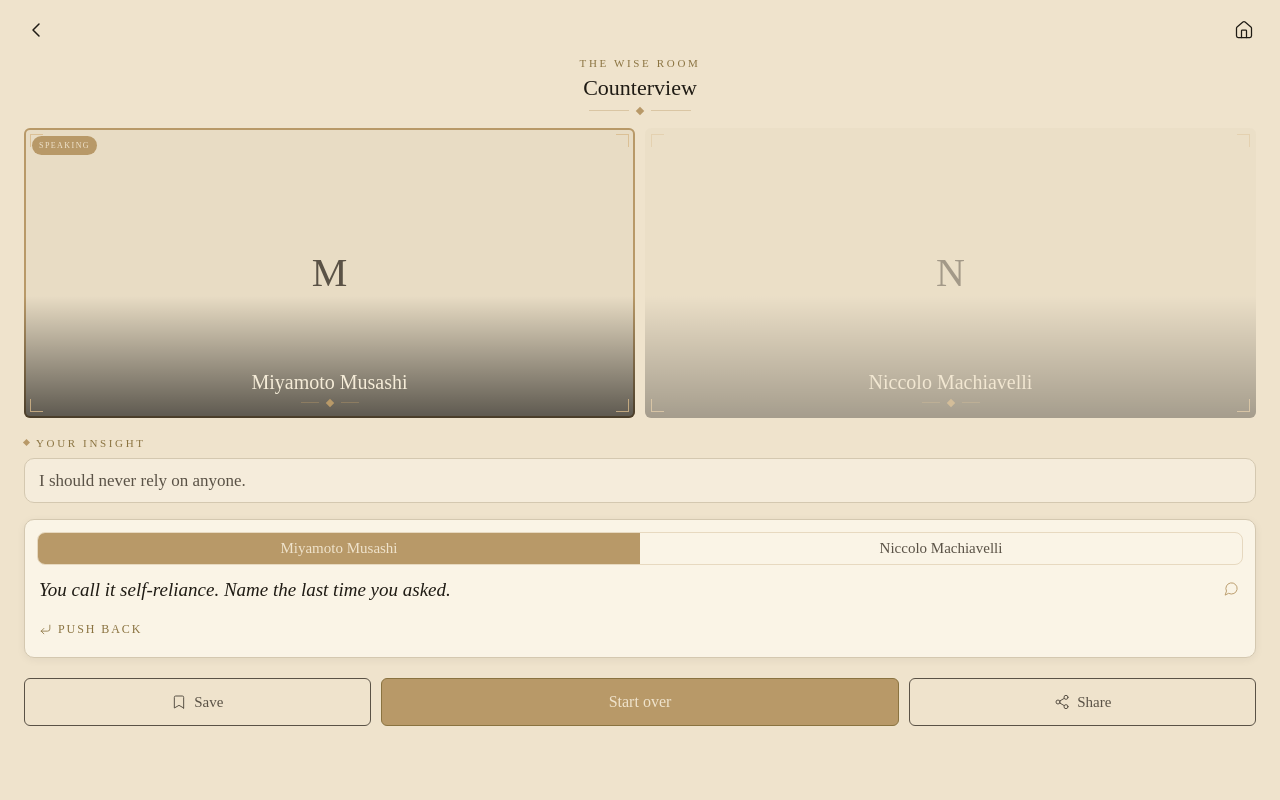
Test: go deeper — when the request FAILS › confines the failure to the persona it happened to
Expected: the text "You call it self-reliance. Name the last time you asked." is shown, [39,579,451,600]
Click the button named "go deeper".
click(1232, 589)  # box [1222,579,1241,598]
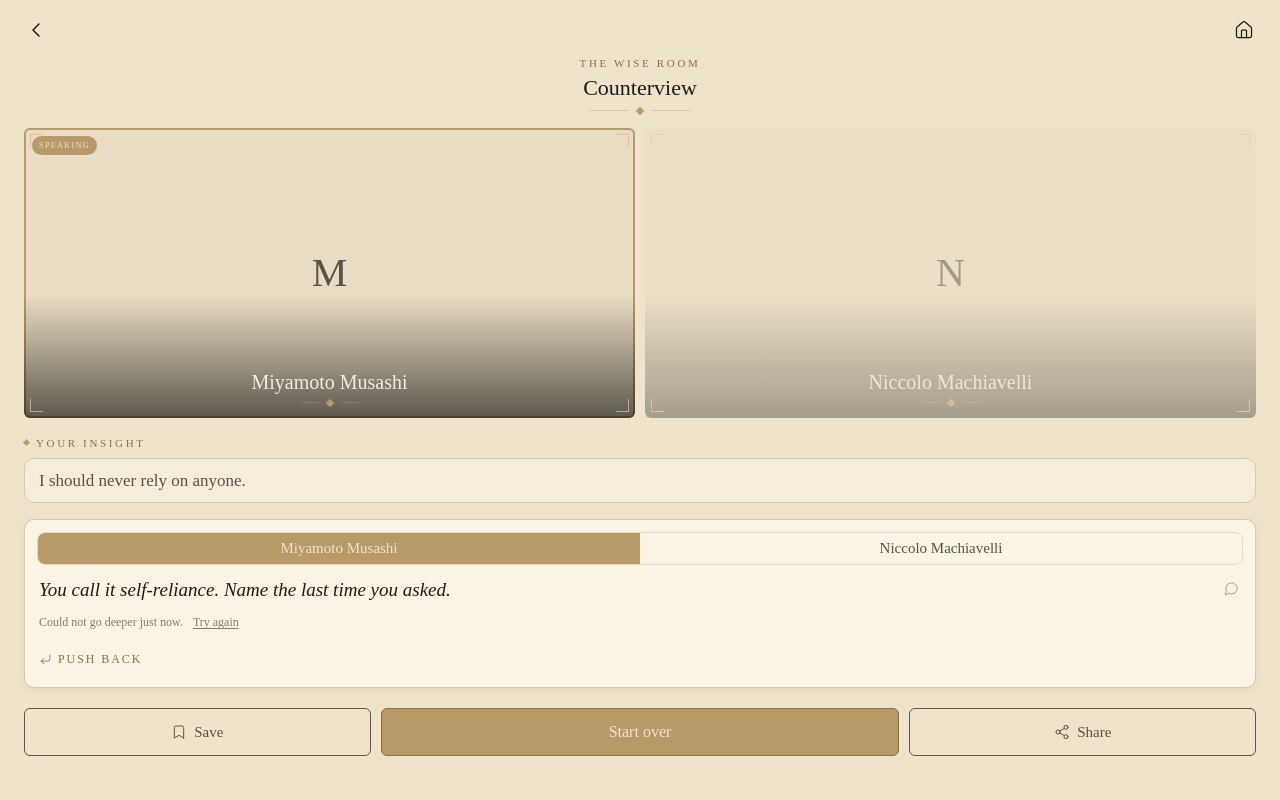
Expected: the text "Could not go deeper just now." is shown, [39,613,183,633]
Click the button "Niccolo Machiavelli".
click(941, 549)  # box [640,533,1242,564]
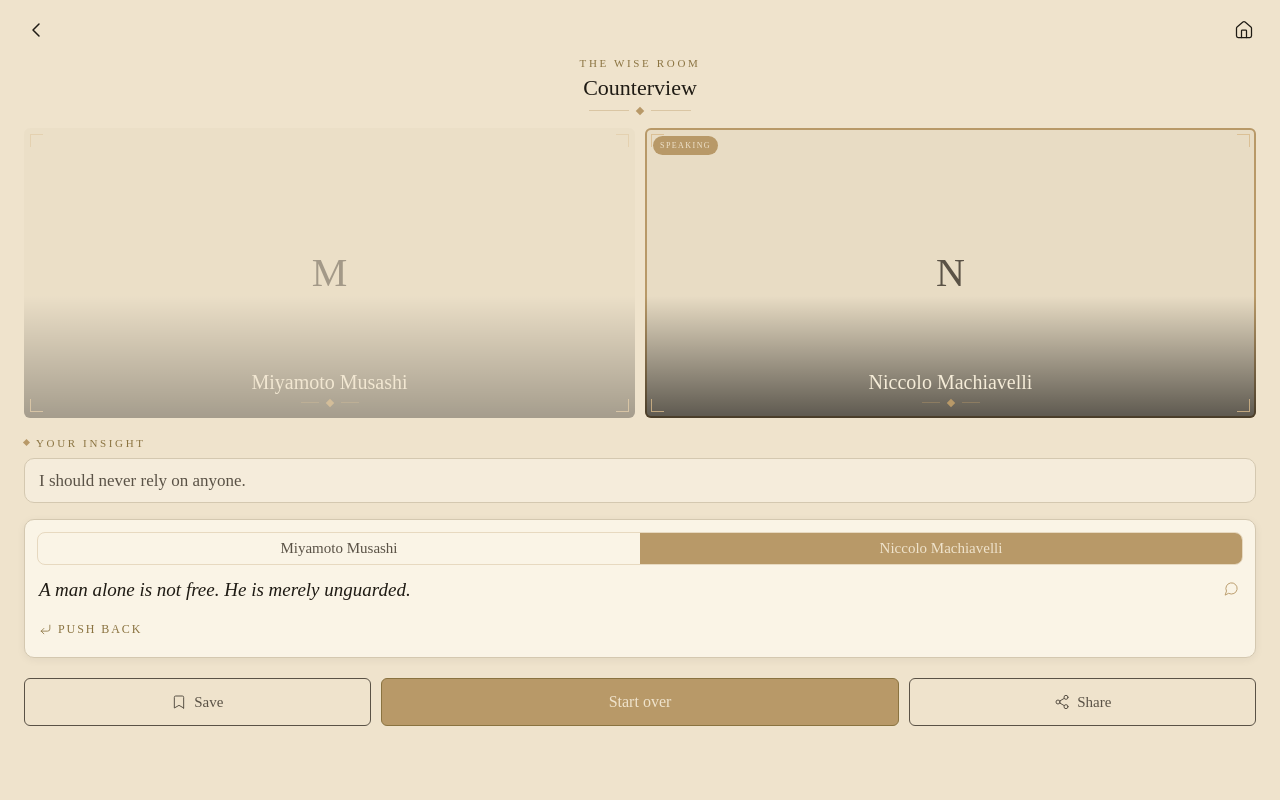
Expected: the button named "go deeper" is shown, [1222,579,1241,598]
Expected: the text "A man alone is not free. He is merely unguarded." is shown, [39,579,411,600]
Expected: the text "Could not go deeper just now" is gone
